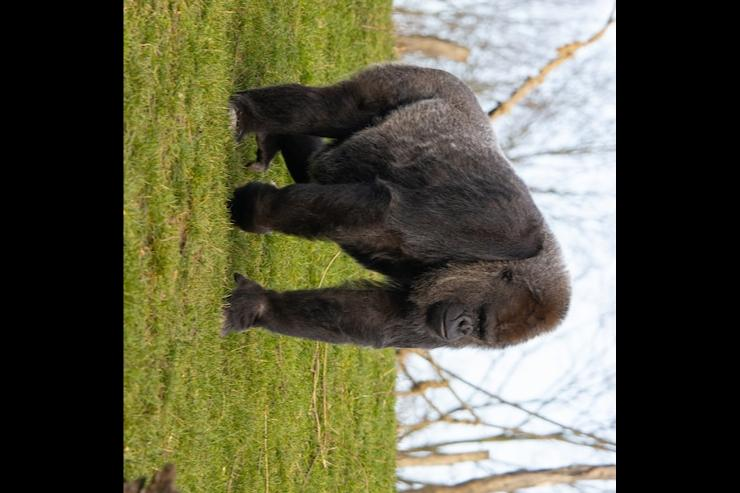gorille_Autres: (211, 21, 616, 379)
